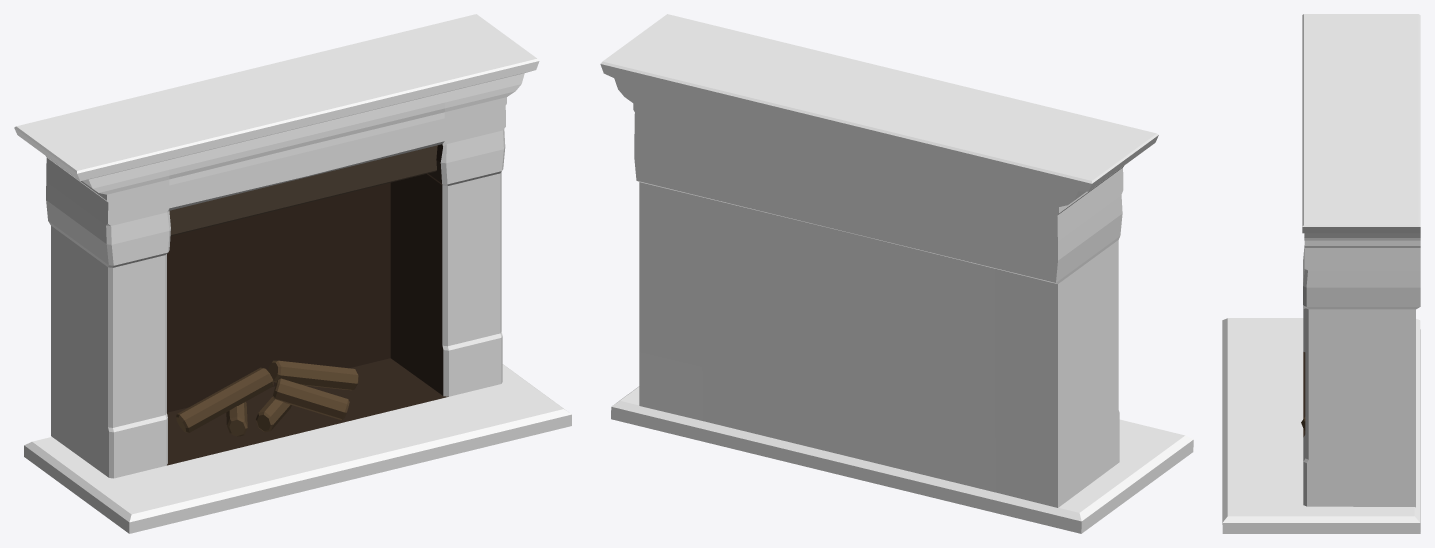
File: Fireplace_Traditional.fbx
The picture shows the model from 3 angles, left to right: view 1: azimuth 30°, elevation 25°; view 2: azimuth 150°, elevation 25°; view 3: azimuth 270°, elevation 25°; orthographic projection. The views are drawn at different scales.
Parts seen in each view (by area): view 1: Fireplace_Traditional, Fireplace_Traditional_Logs; view 2: Fireplace_Traditional; view 3: Fireplace_Traditional.
Part boxes in pixels (x1,y1,x2,y2): Fireplace_Traditional: (14,14,571,533); Fireplace_Traditional_Logs: (176,360,358,436); Fireplace_Traditional: (600,14,1193,533); Fireplace_Traditional: (1222,14,1420,533).
Bounding box in the file's own units: 167 × 115 × 65.91.
Materials: 1 (1 with a texture image).
